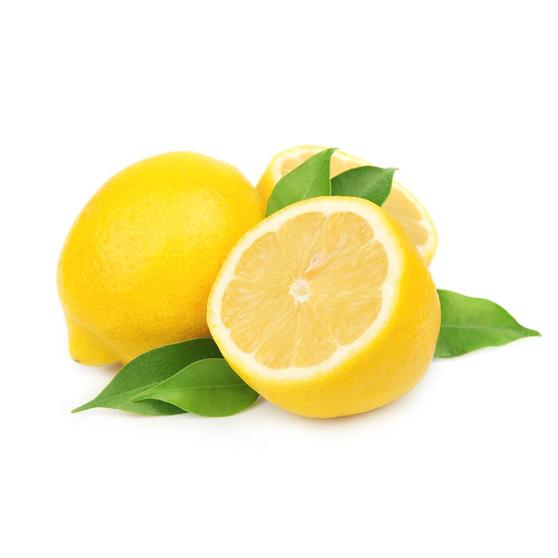lemon: (59, 149, 263, 369)
